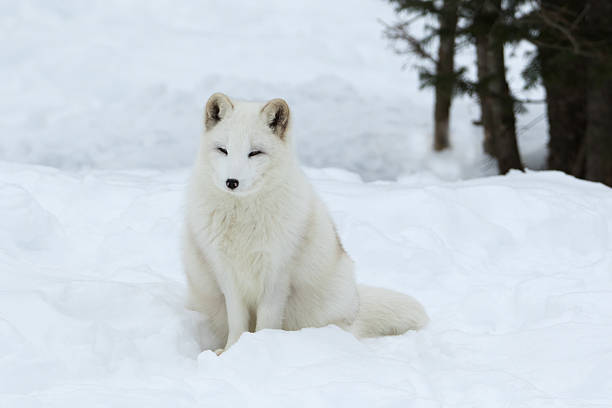arcticfox: (206, 121, 287, 215)
